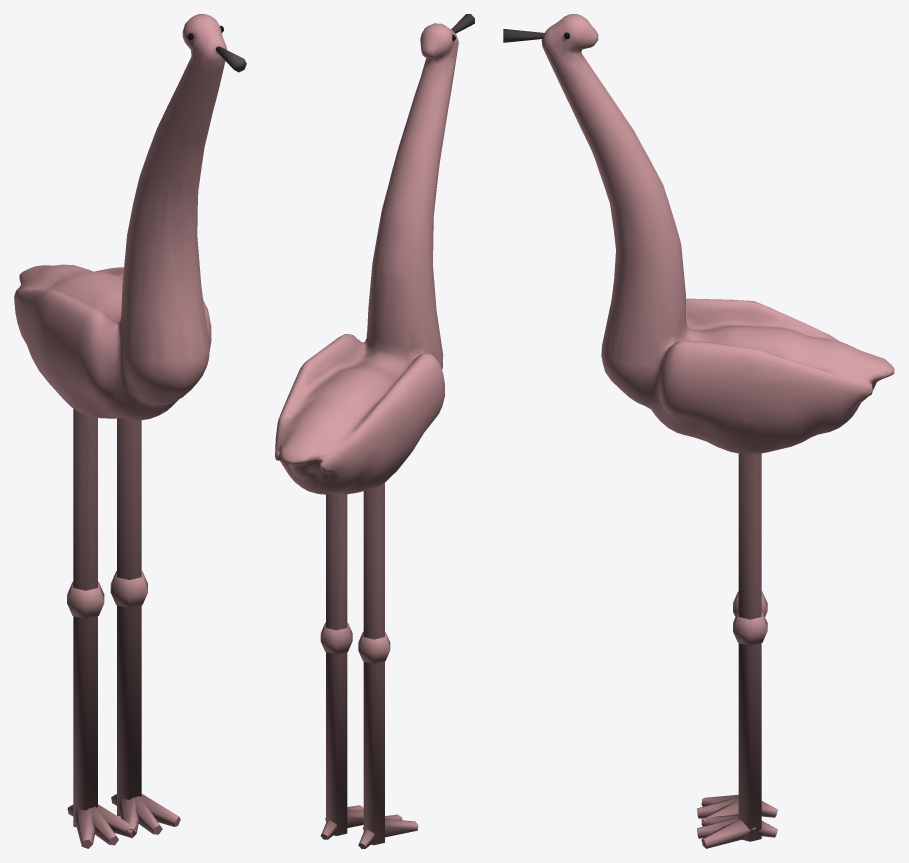
File: flamingo.glb
The picture shows the model from 3 angles, left to right: view 1: azimuth 30°, elevation 25°; view 2: azimuth 150°, elevation 25°; view 3: azimuth 270°, elevation 25°; orthographic projection. The views are drawn at different scales.
Visible parts, largest first — view 1: lack; view 2: lack; view 3: lack.
Boxes of the visible parts, x1,y1,x2,y2 form: lack: (14, 14, 246, 848); lack: (275, 14, 474, 848); lack: (503, 14, 894, 848).
Size of the model in its own units: 0.2083 by 1.31 by 0.5702.
